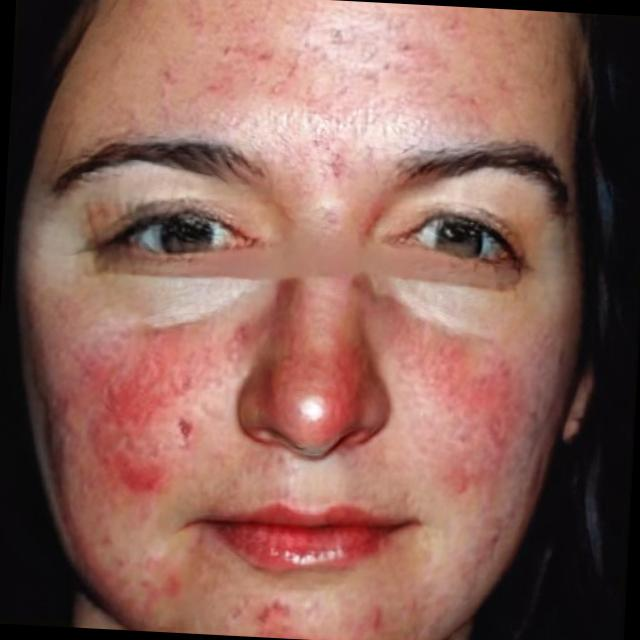redness: (66, 310, 280, 521), (148, 31, 361, 187), (399, 315, 528, 503), (254, 319, 386, 450), (83, 528, 186, 625), (230, 585, 305, 639), (346, 600, 391, 640)
